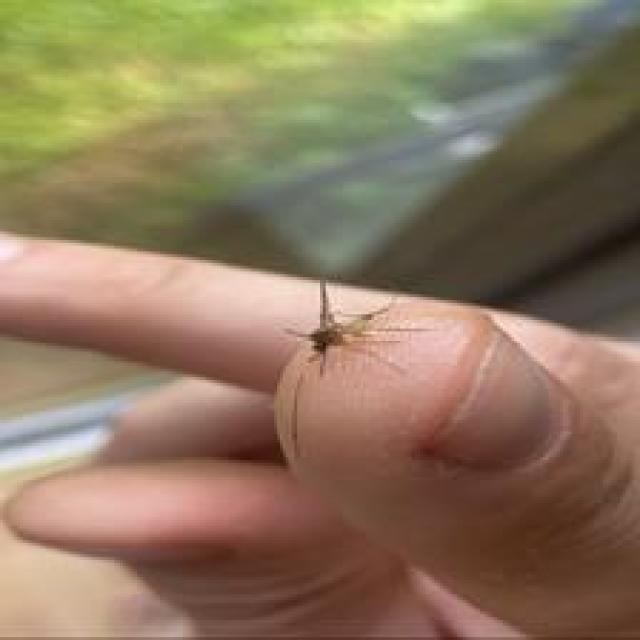Culex: (283, 277, 431, 377)
